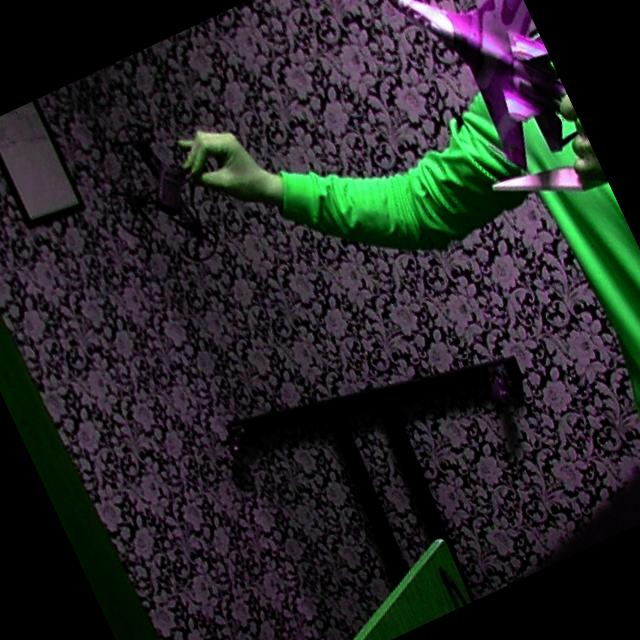drone: (69, 78, 264, 287)
